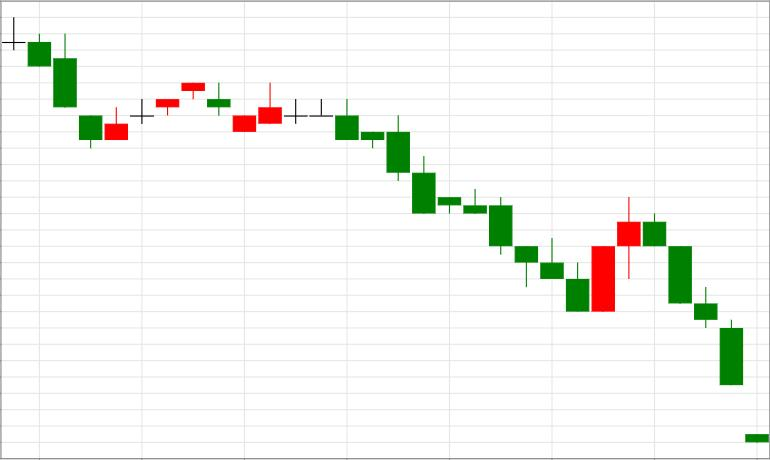bullish_engulfing_rise: (336, 98, 615, 313)
